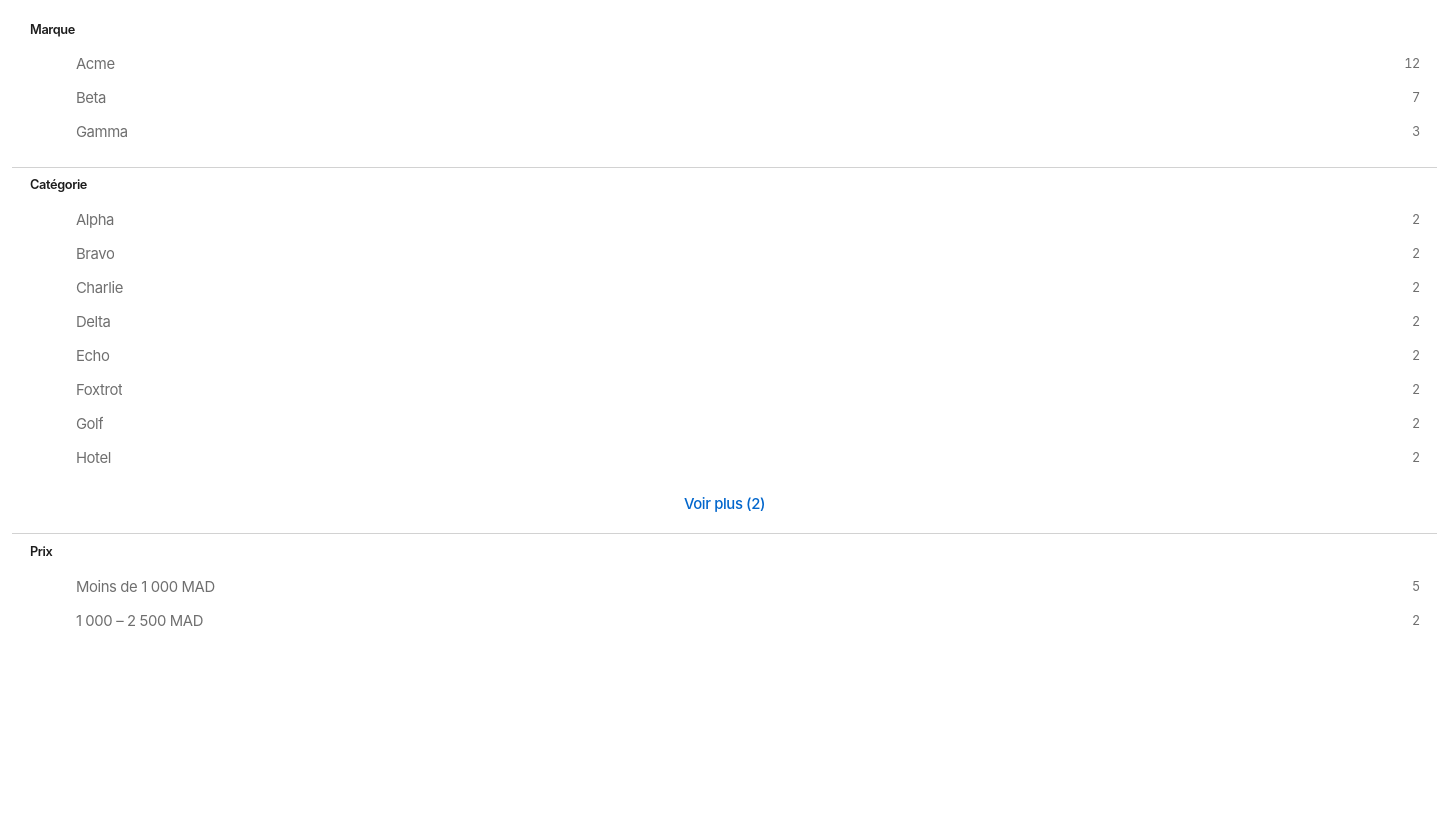
FilterSidebar — liste de texte › tronque les Catégories comme les Marques
Click the button "Voir plus (2)": click(724, 505) [29, 493, 1420, 516]
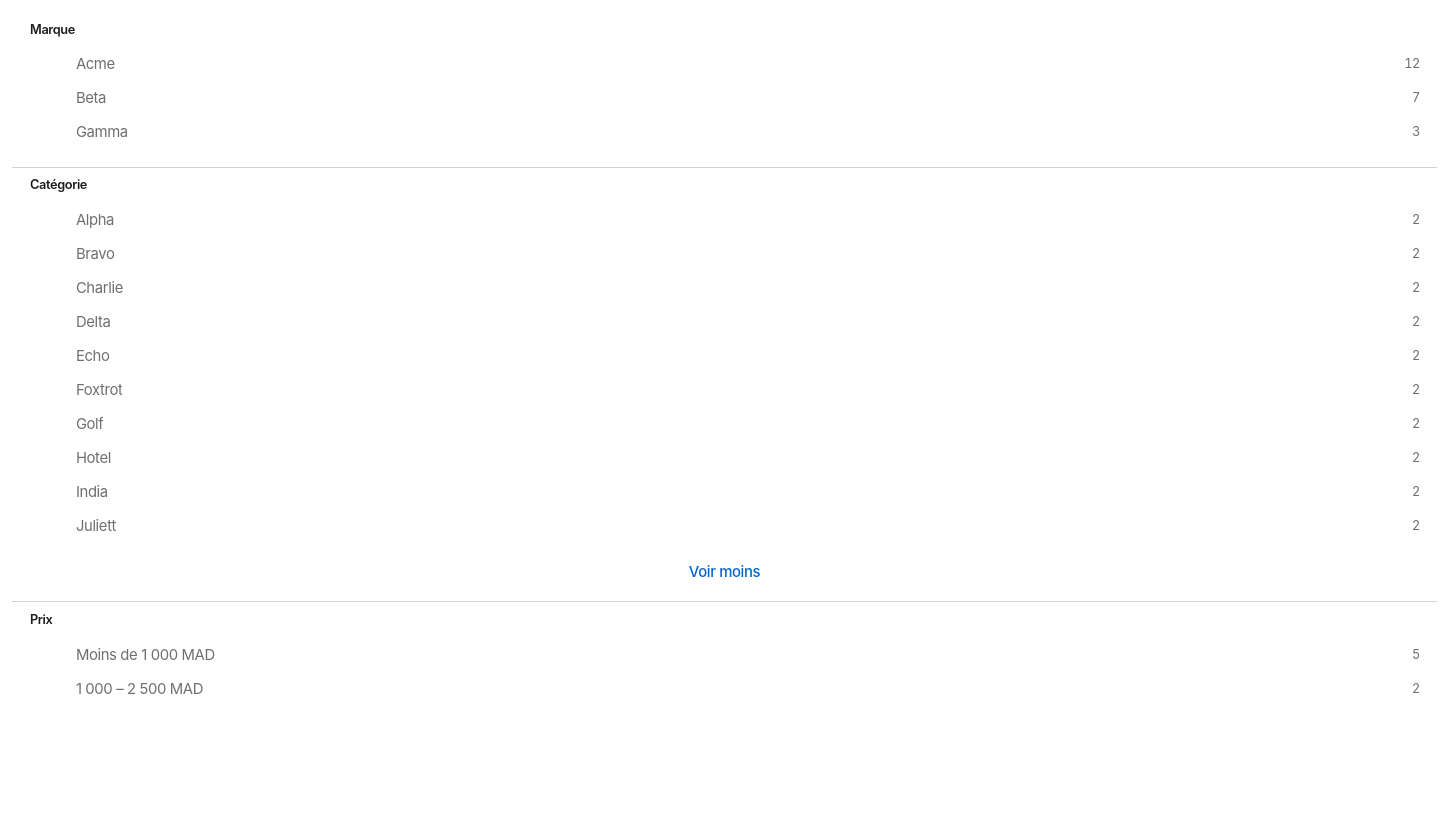
Expected: the radio button labelled "Juliett 2" is shown, [28, 517, 1420, 535]
Expected: the button "Voir moins" is shown, [29, 561, 1420, 584]
Expected: the button "Voir moins" is expanded, [29, 561, 1420, 584]
